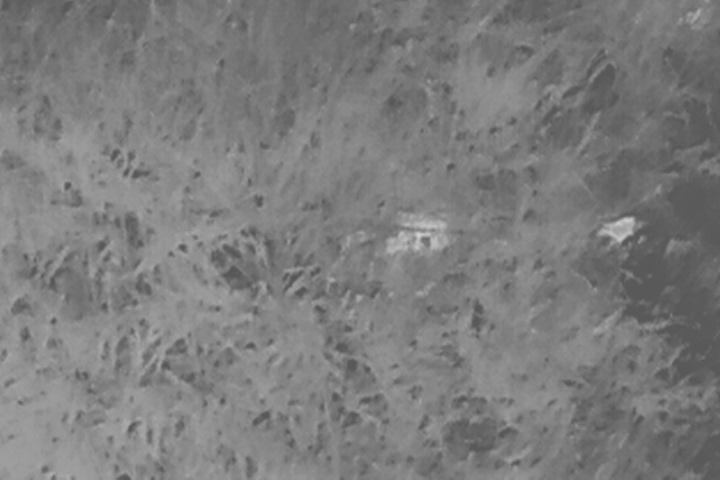landmine: (310, 173, 507, 287)
